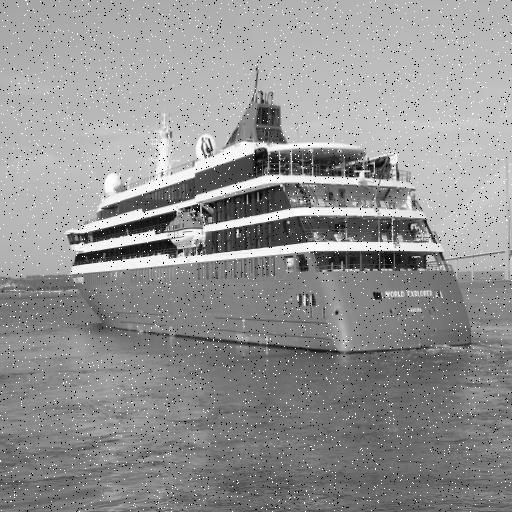cruises: (62, 73, 483, 368)
